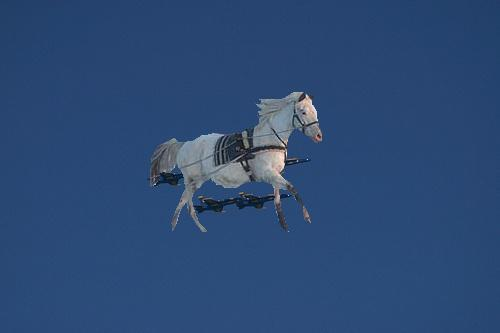tampered: (151, 93, 322, 232)
